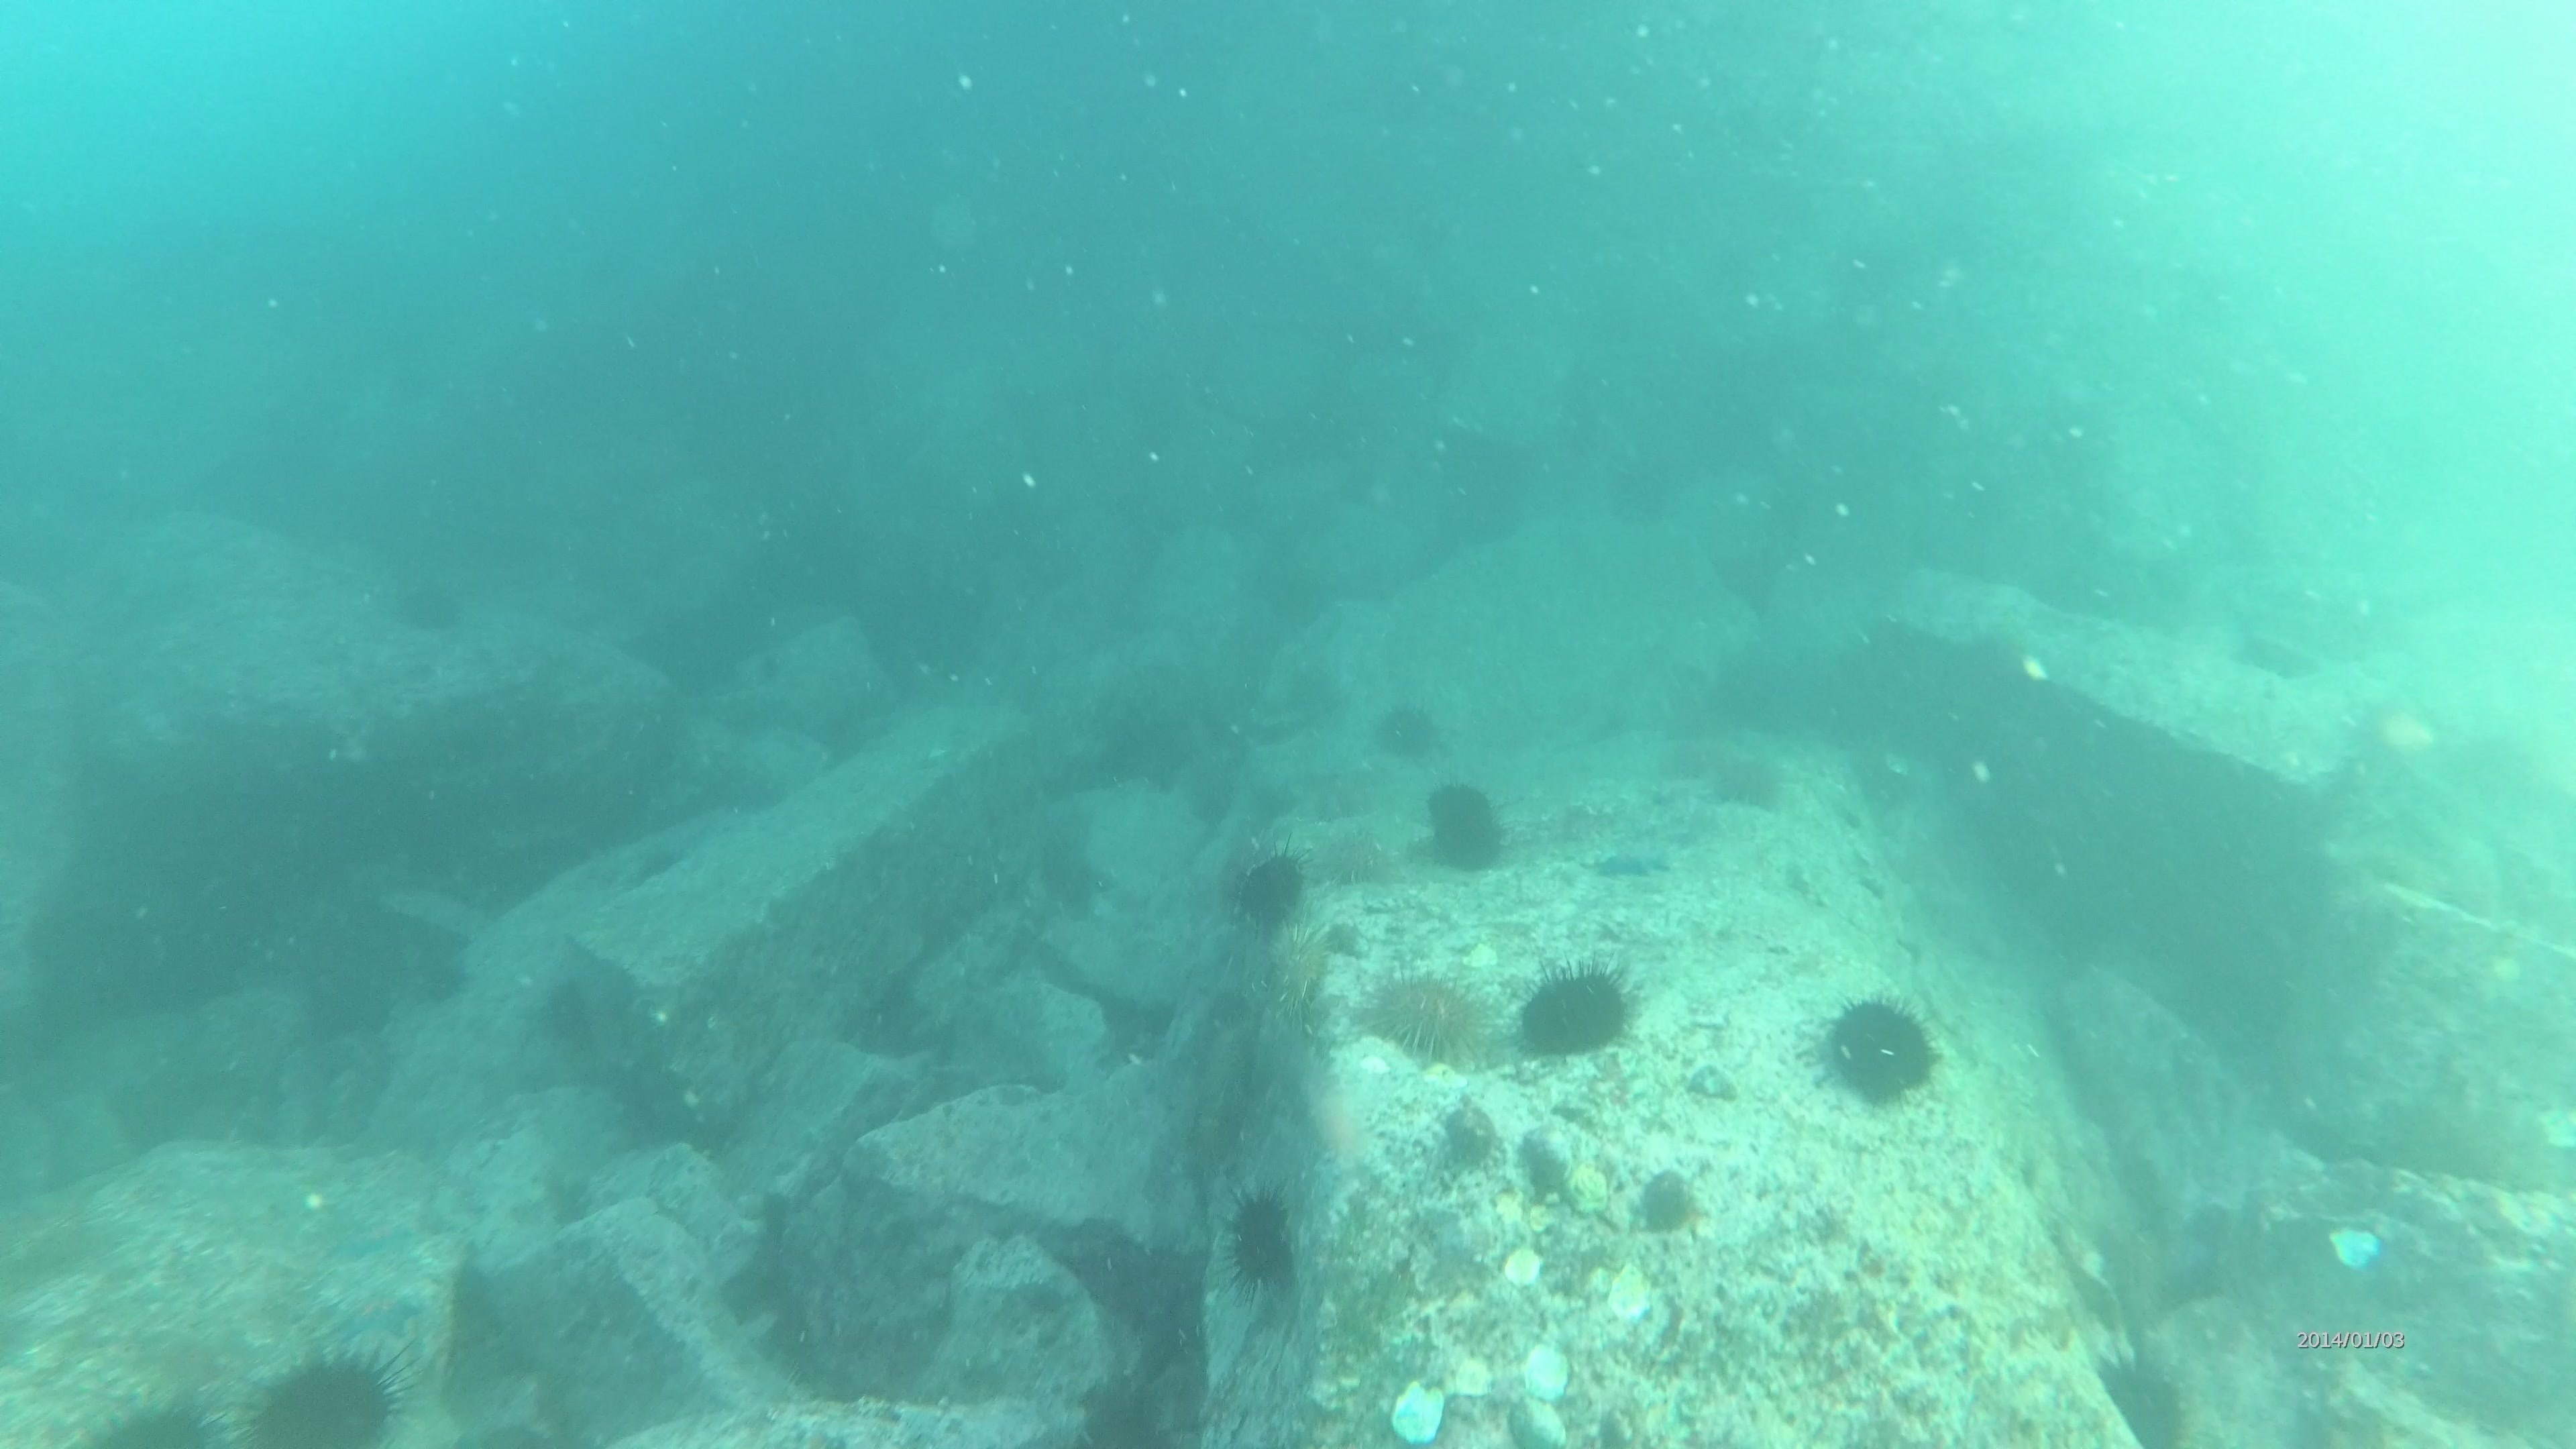echinus: (239, 1343, 410, 1444), (1810, 989, 1946, 1113), (1511, 955, 1642, 1067), (1361, 962, 1491, 1069), (2091, 1346, 2197, 1449), (1217, 1182, 1307, 1297), (1263, 916, 1352, 1026), (1221, 840, 1316, 936), (85, 1391, 235, 1449), (1698, 741, 1792, 819), (384, 566, 472, 640), (1368, 692, 1445, 764), (1415, 777, 1497, 842), (1440, 828, 1507, 878)
starfish: (290, 1247, 432, 1352), (1585, 833, 1677, 888)
